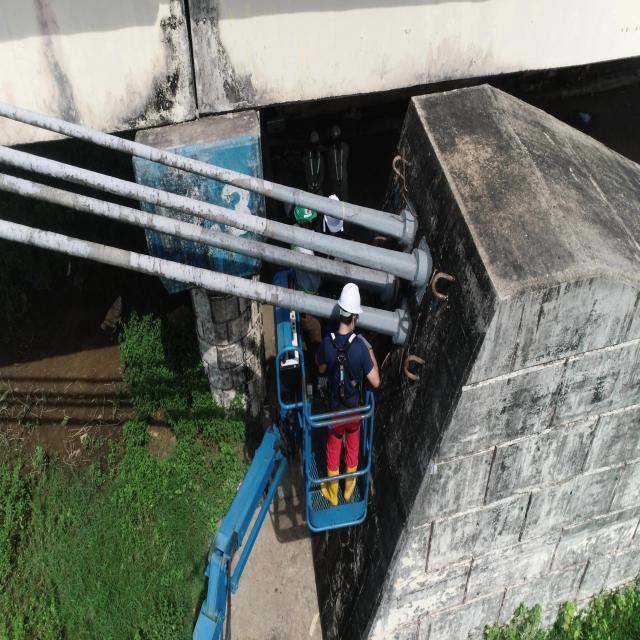crack: (151, 257, 155, 270), (298, 189, 300, 205), (73, 198, 75, 210), (103, 245, 105, 257), (159, 260, 161, 272), (193, 268, 195, 280), (265, 288, 267, 300), (150, 152, 152, 161), (30, 162, 32, 170), (200, 270, 202, 278), (242, 223, 244, 230), (161, 226, 163, 232), (252, 228, 255, 232), (258, 230, 262, 233), (70, 128, 71, 136), (164, 202, 166, 206), (180, 264, 182, 268), (137, 190, 138, 196)
